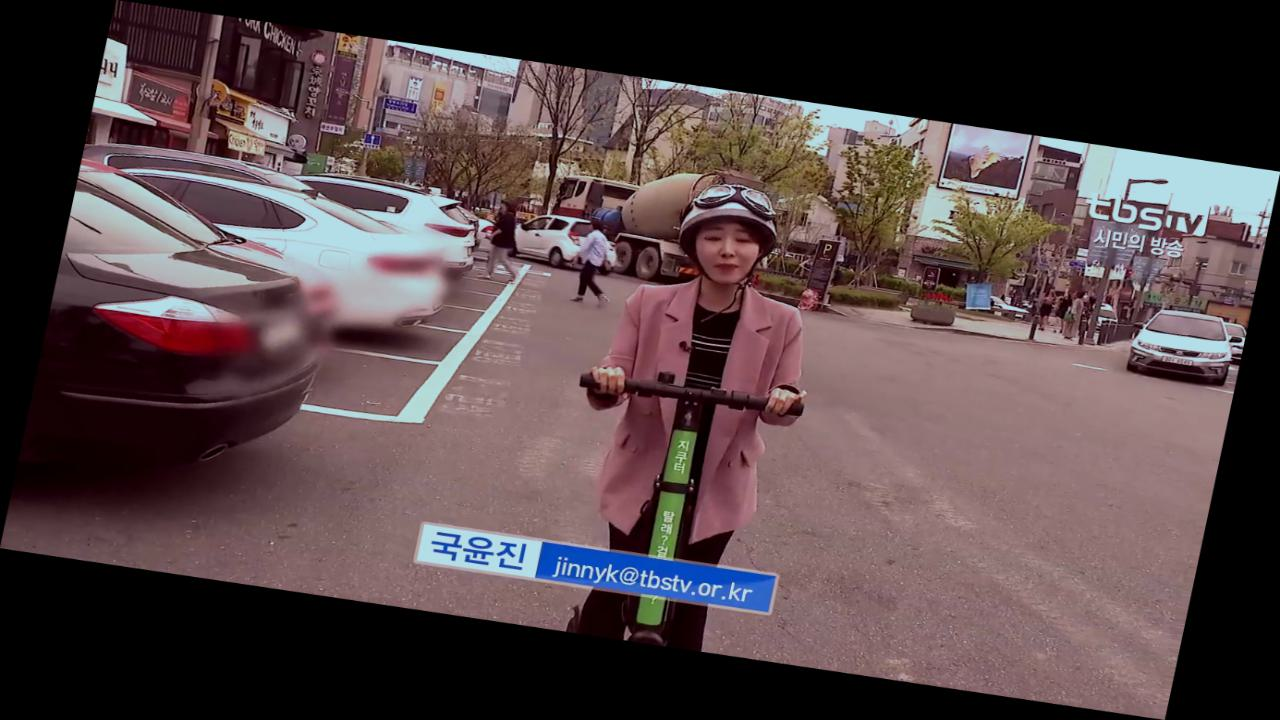helmet: (523, 166, 855, 660)
